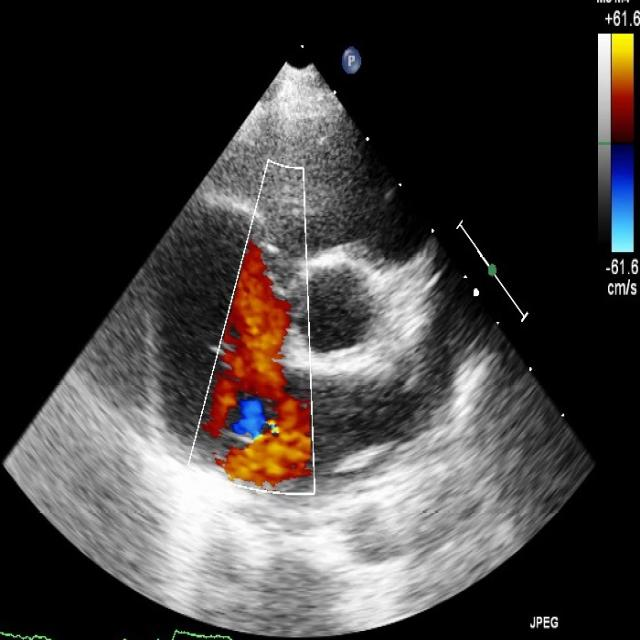ASDType2: (215, 254, 371, 493)
